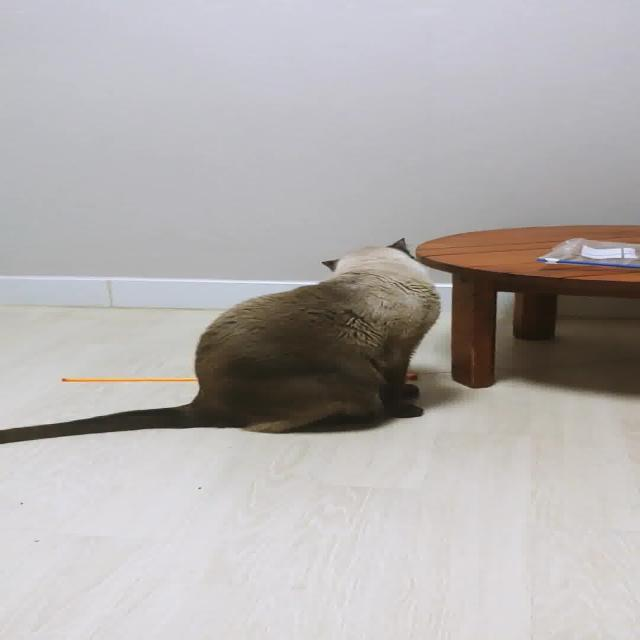cat: (0, 235, 454, 450)
